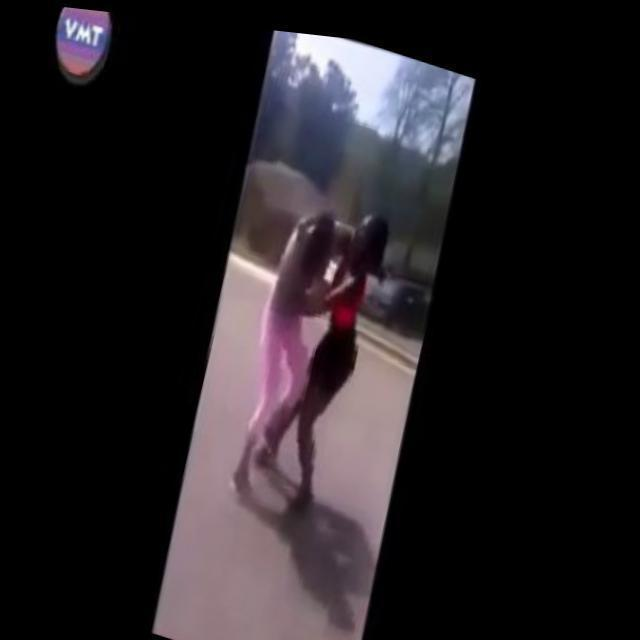fight: (216, 162, 404, 529)
